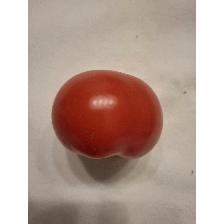Tomate: (48, 65, 166, 162)
